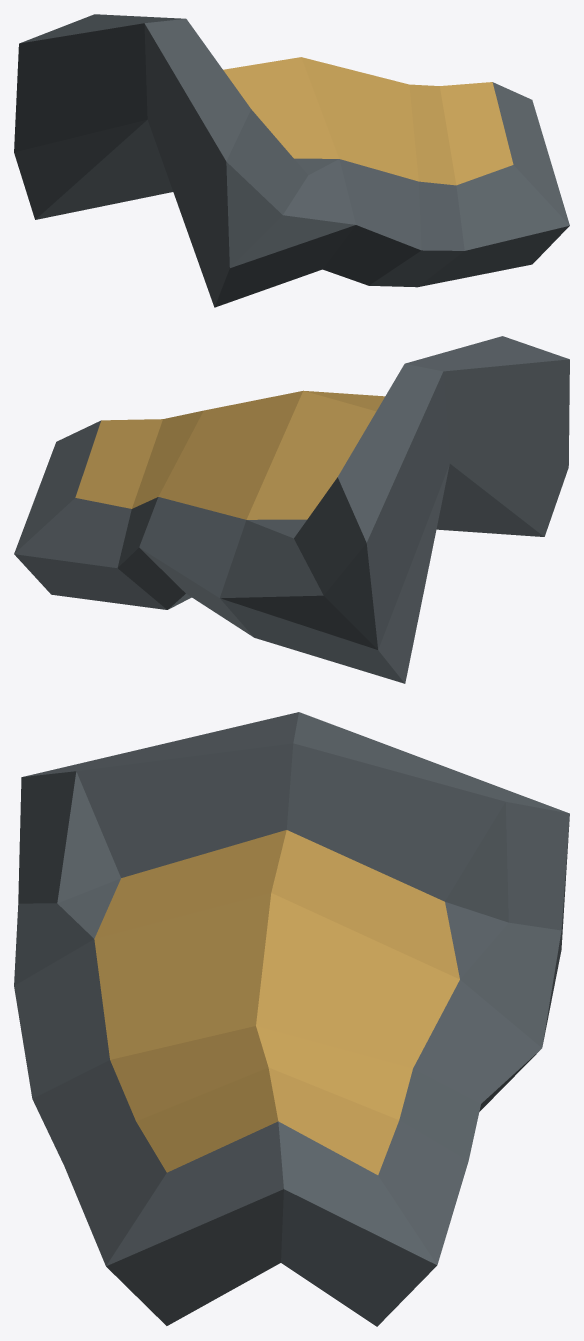
The model's file is Chr_ShoulderAttachLeft_13_Static.fbx.
3 renders of one model, top to bottom at view 1: azimuth 30°, elevation 25°; view 2: azimuth 150°, elevation 25°; view 3: azimuth 270°, elevation 25°, orthographic. The views are drawn at different scales.
Parts seen in each view (by area): view 1: Chr_ShoulderAttachLeft_13_Static; view 2: Chr_ShoulderAttachLeft_13_Static; view 3: Chr_ShoulderAttachLeft_13_Static.
Part boxes in pixels (left/top/right/bottom): Chr_ShoulderAttachLeft_13_Static: left=14, top=14, right=569, bottom=307; Chr_ShoulderAttachLeft_13_Static: left=14, top=336, right=569, bottom=683; Chr_ShoulderAttachLeft_13_Static: left=14, top=712, right=569, bottom=1326.
Size of the model in its own units: 0.2934 by 0.1932 by 0.2494.
